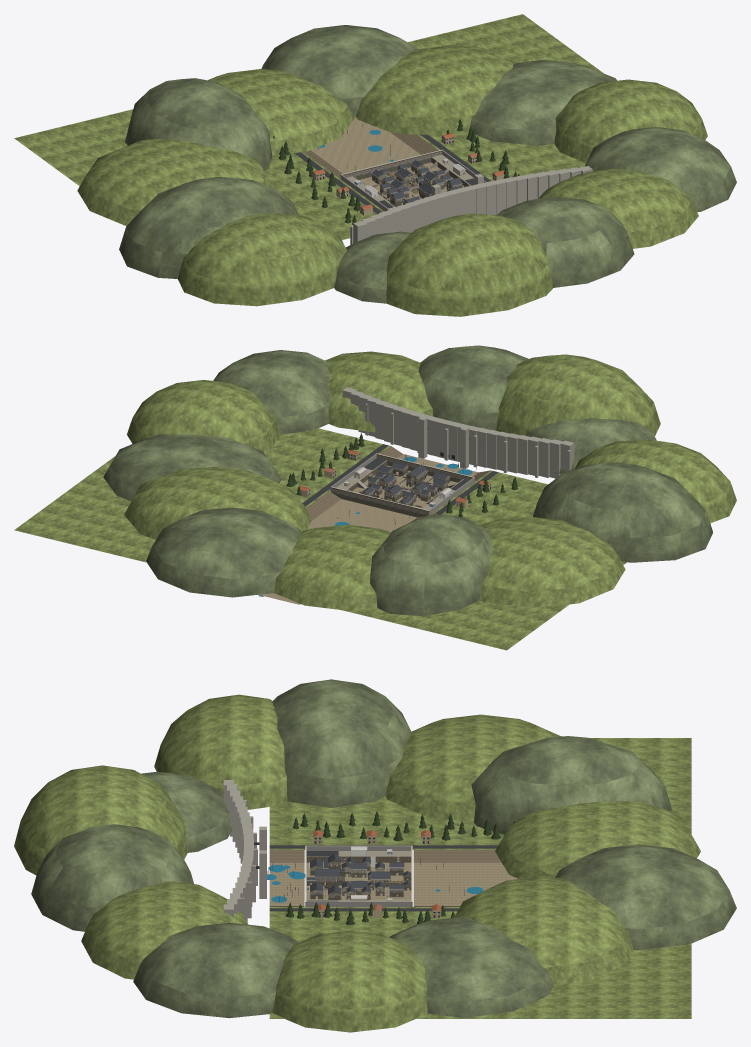
File: low-water-structure.glb
The picture shows the model from 3 angles, top to bottom: view 1: azimuth 30°, elevation 25°; view 2: azimuth 150°, elevation 25°; view 3: azimuth 270°, elevation 25°; orthographic projection. The views are drawn at different scales.
Visible parts, largest first — view 1: backdrop.hills, backdrop.ground, backdrop.dam, backdrop.trees, dressing.roofs, backdrop.houses, outer-S; view 2: backdrop.hills, backdrop.ground, backdrop.dam, dressing.roofs, backdrop.trees, outer-S, ground, outer-N, backdrop.houses; view 3: backdrop.hills, backdrop.ground, backdrop.dam, backdrop.trees, dressing.roofs, ground, backdrop.houses, rim@-x, outer-E.
Boxes of the visible parts, x1,y1,x2,y2 form: backdrop.hills: (77, 25, 736, 316); backdrop.ground: (14, 14, 603, 239); backdrop.dam: (350, 166, 592, 244); backdrop.trees: (273, 118, 519, 224); dressing.roofs: (364, 160, 466, 202); backdrop.houses: (312, 133, 504, 215); outer-S: (340, 150, 441, 179); backdrop.hills: (103, 345, 736, 616); backdrop.ground: (14, 428, 627, 650); backdrop.dam: (342, 387, 574, 478); dressing.roofs: (353, 462, 451, 504); backdrop.trees: (278, 433, 518, 524); outer-S: (330, 487, 429, 517); ground: (341, 465, 457, 517); outer-N: (376, 454, 474, 482); backdrop.houses: (299, 450, 491, 515); backdrop.hills: (14, 679, 736, 1032); backdrop.ground: (269, 738, 691, 1018); backdrop.dam: (223, 780, 266, 922); backdrop.trees: (267, 811, 515, 925); dressing.roofs: (306, 846, 411, 898); ground: (306, 862, 411, 899); backdrop.houses: (313, 830, 441, 917); rim@-x: (306, 851, 411, 862); outer-E: (306, 901, 411, 906).
Size of the model in its own units: 591 by 66.06 by 565.
Materials: 36 (36 with a texture image).
